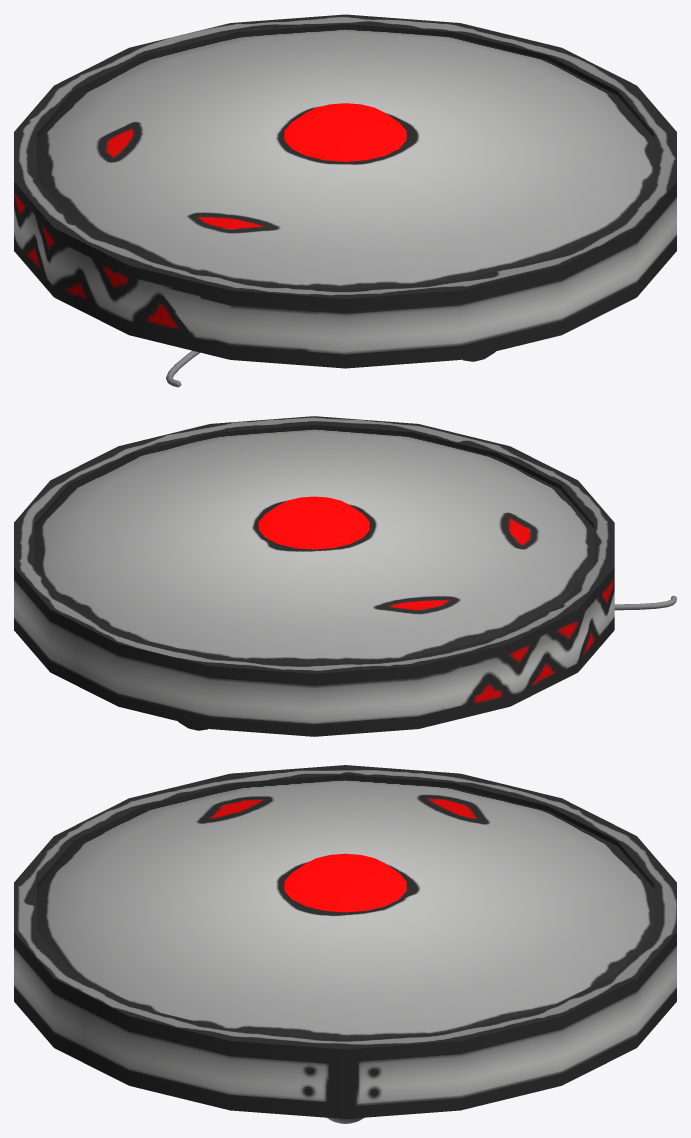
Rendered from RombaLandmineFBX.FBX.
3 views of the same model, one above another, from view 1: azimuth 30°, elevation 25°; view 2: azimuth 150°, elevation 25°; view 3: azimuth 270°, elevation 25° (orthographic). The views are drawn at different scales.
Visible parts, largest first — view 1: Landmine; view 2: Landmine; view 3: Landmine.
Boxes of the visible parts, x1,y1,x2,y2 form: Landmine: (14,14,676,387); Landmine: (14,416,676,736); Landmine: (14,765,676,1123).
Bounding box in the file's own units: 66.89 × 14.82 × 65.88.
